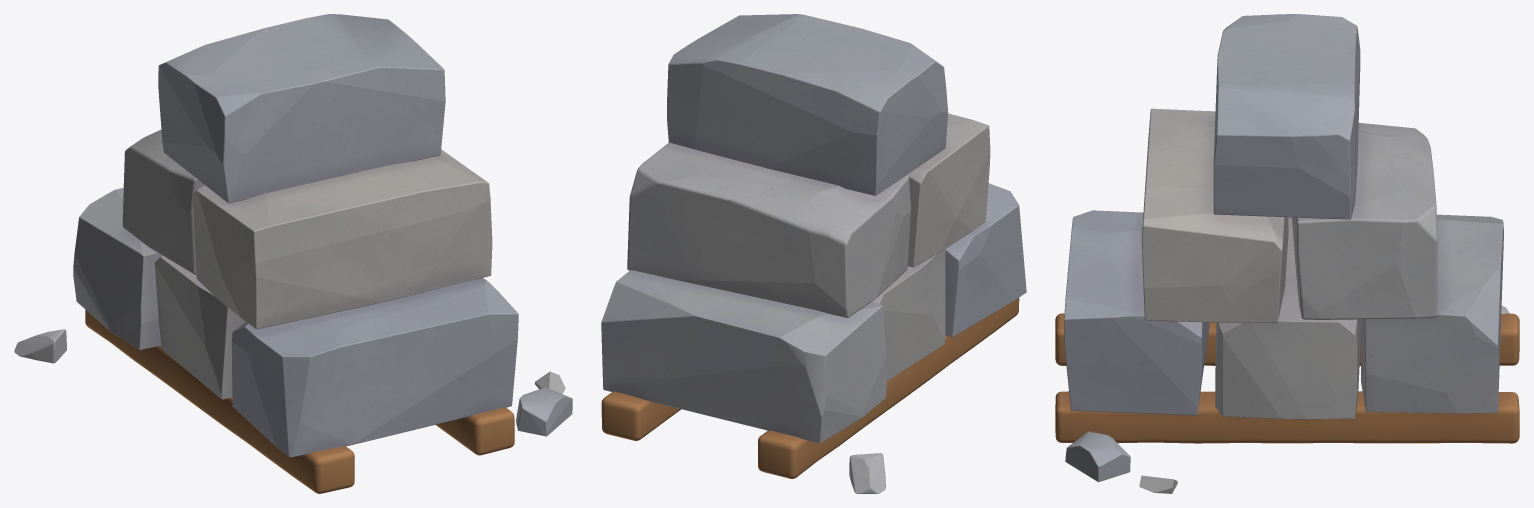
The model's file is blocks.glb.
3 renders of one model, left to right at view 1: azimuth 30°, elevation 25°; view 2: azimuth 150°, elevation 25°; view 3: azimuth 270°, elevation 25°, orthographic. The views are drawn at different scales.
Visible parts, largest first — view 1: stone-blocks-stack_body; view 2: stone-blocks-stack_body; view 3: stone-blocks-stack_body.
Boxes of the visible parts, <box> form: stone-blocks-stack_body: <box>14,14,572,493</box>; stone-blocks-stack_body: <box>601,14,1026,493</box>; stone-blocks-stack_body: <box>1055,14,1519,493</box>.
Size of the model in its own units: 0.8061 by 0.6807 by 0.8612.
1 material, 1 textured.
